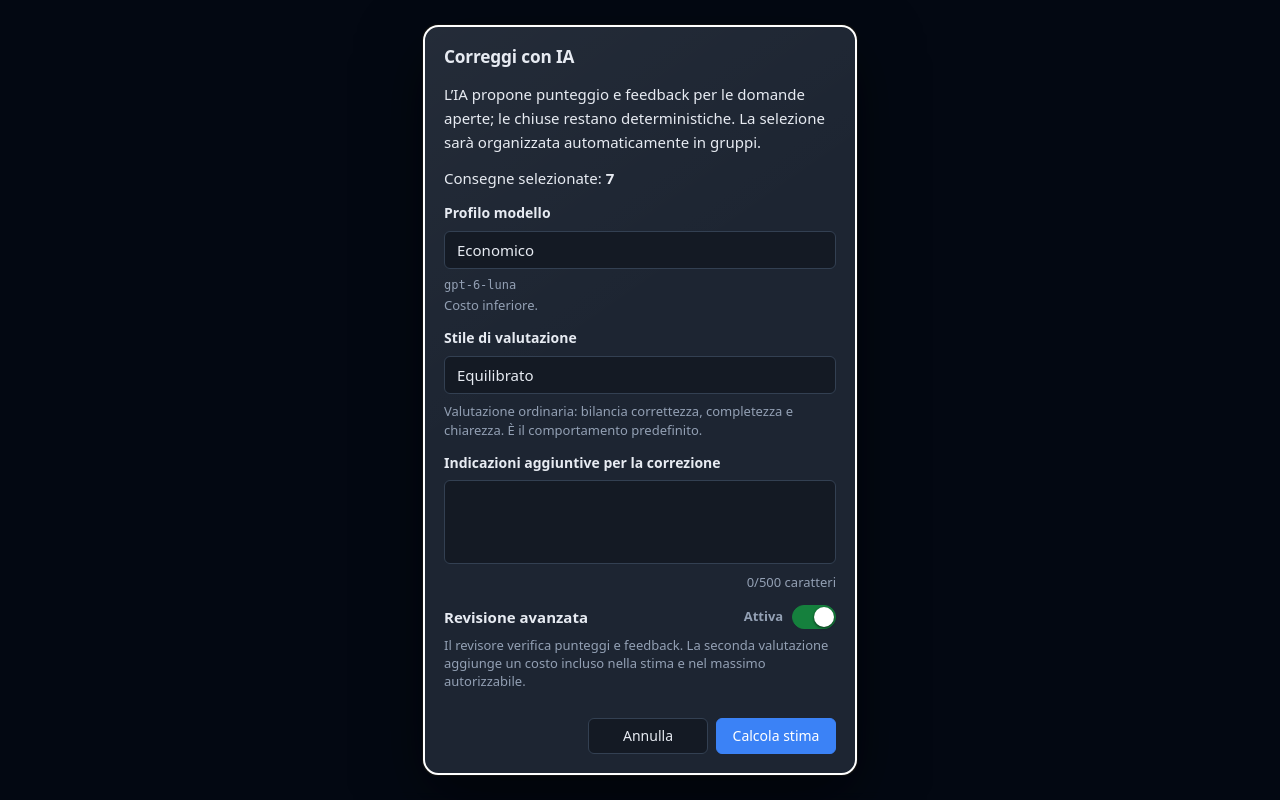
Test case: planned correction UI › confirms the total and each server group once, shows student progress and accounts completed groups
Click the button "Calcola stima": (776, 736) [716,718,836,754]
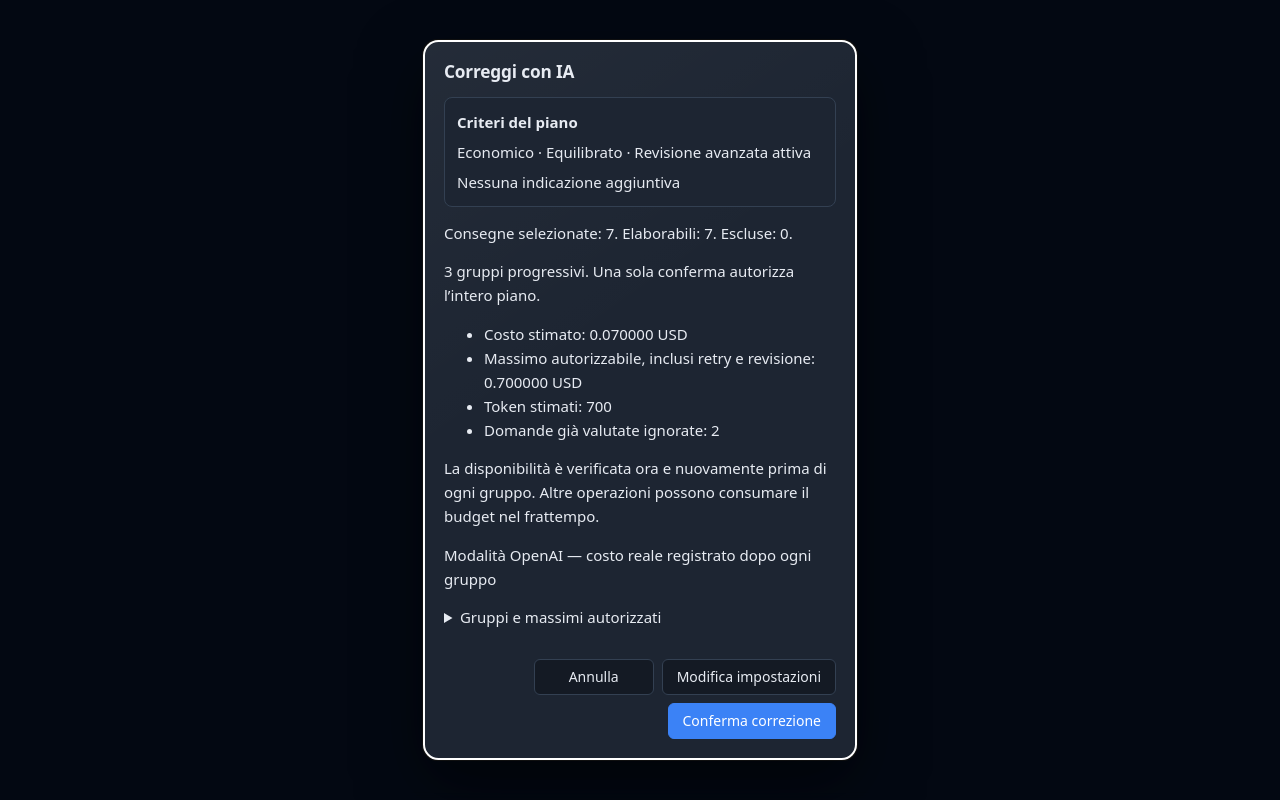
Click the button "Conferma correzione": (752, 721) [668,703,836,739]
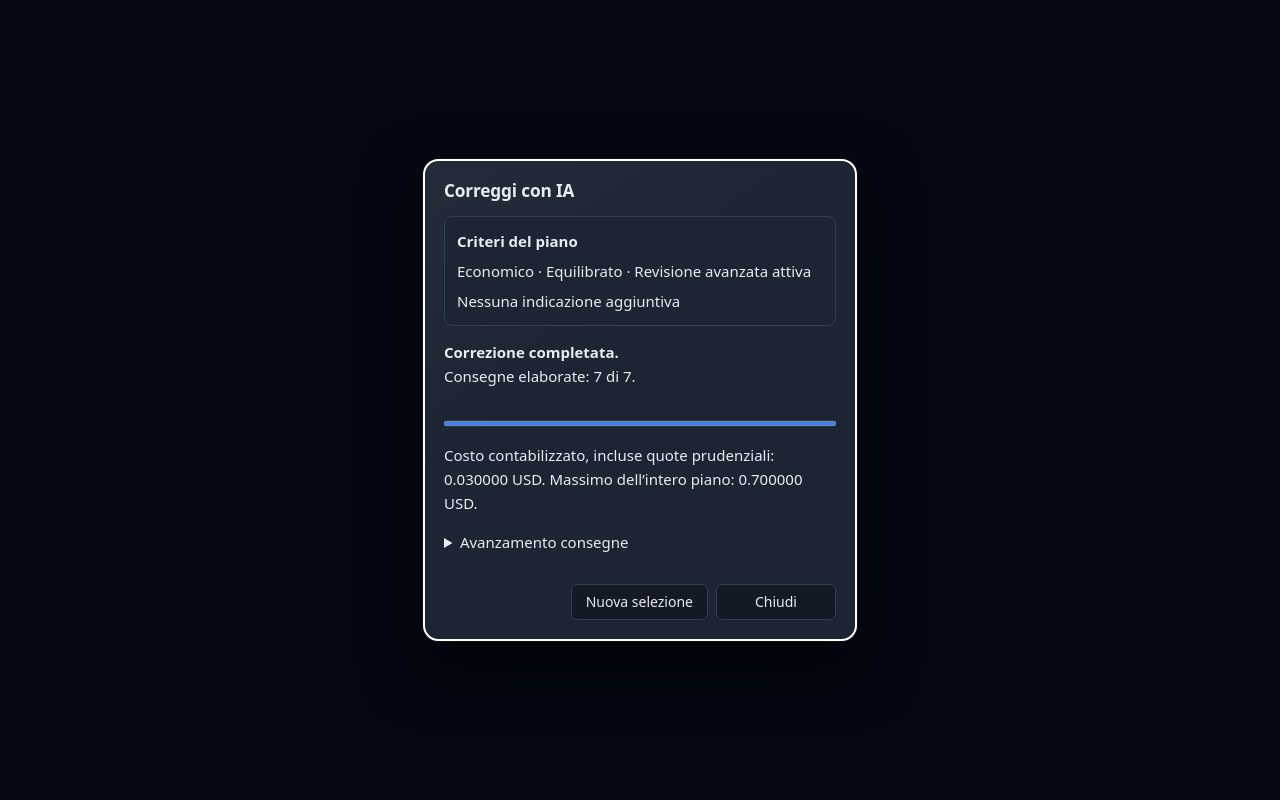
Expected: the text "Correzione completata." is shown, [444,342,619,362]
Expected: the text "Consegne elaborate: 7 di 7." is shown, [444,364,636,388]
